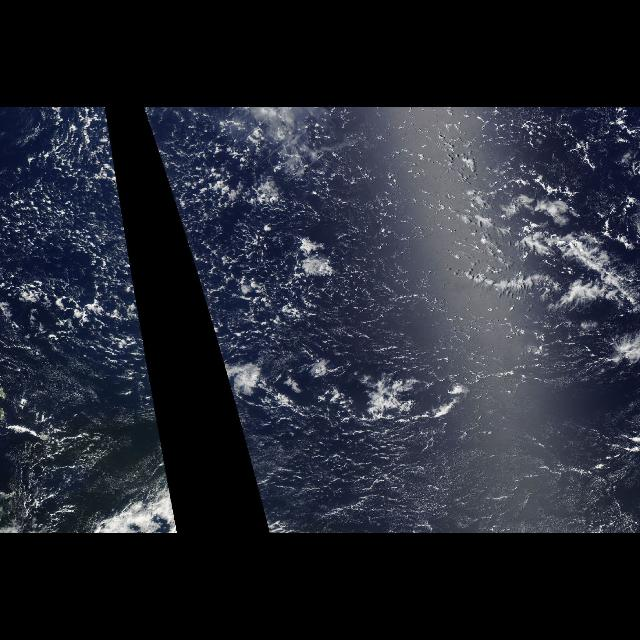Gravel: (142, 108, 462, 384), (0, 108, 154, 384)
Sugar: (237, 403, 638, 532)
